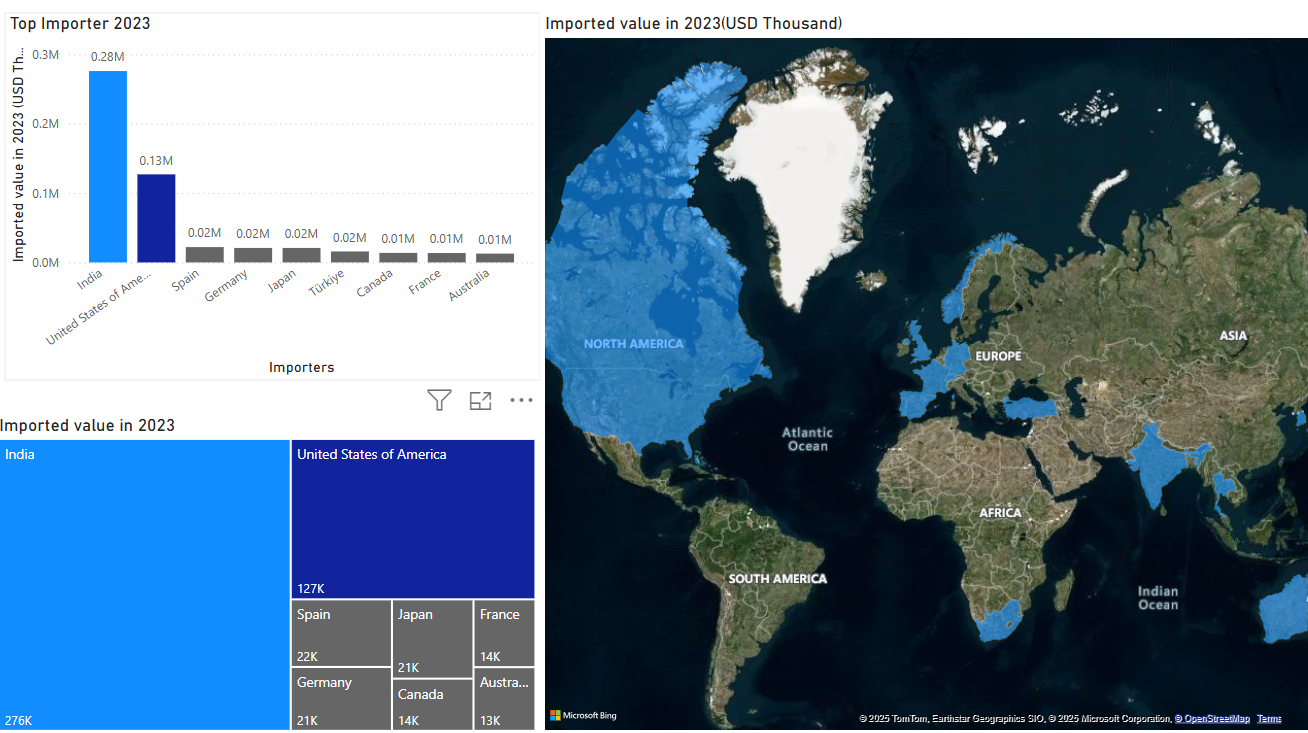

What the dashboard file says about the page in this screenshot:
{"tool":"powerbi","page":{"name":"6310 Import","canvas":[1280,720],"ordinal":3},"visuals":[{"type":"clusteredColumnChart","title":"Top Importer 2023","fields":{"Category":["6310 Import.Importers"],"Y":["Sum(6310 Import.Imported value in 2023)"]},"box":[10.2,18.9,519.6,356.6],"z":0},{"type":"filledMap","title":"Imported value in 2023(USD Thousand) ","fields":{"Category":["6310 Import.Importers"]},"box":[529.8,18.9,749.6,701.6],"z":1000},{"type":"treemap","title":"Imported value in 2023","fields":{"Group":["6310 Import.Importers"],"Values":["Sum(6310 Import.Imported value in 2023)"]},"box":[0,409.7,529.5,310.9],"z":2000}]}

Visuals, with their boxes in screenshot pixels (x1, y1, x2, y2), scaled from the page's 1280x720 canvas onto the 1308x733 screenshot:
"Top Importer 2023" clusteredColumnChart: [left=10, top=19, right=541, bottom=382]
"Imported value in 2023(USD Thousand) " filledMap: [left=541, top=19, right=1307, bottom=732]
"Imported value in 2023" treemap: [left=0, top=417, right=541, bottom=732]
